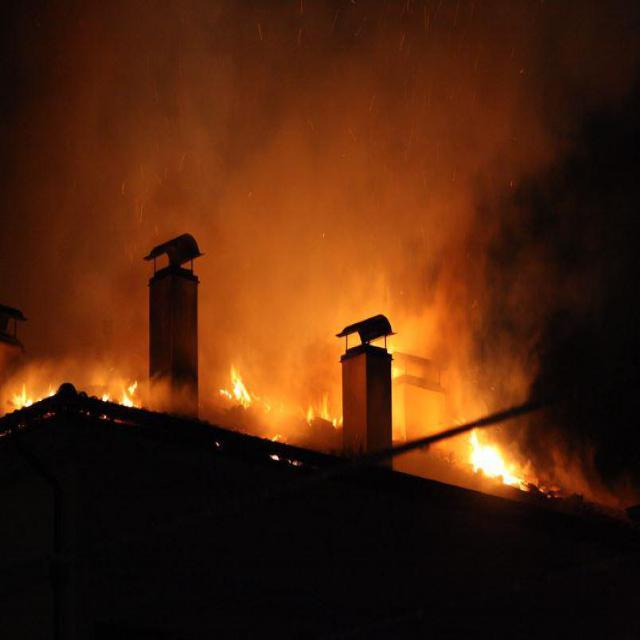Fire: (455, 416, 532, 492), (5, 366, 52, 416), (302, 384, 348, 434), (101, 367, 142, 419), (212, 365, 254, 413)
